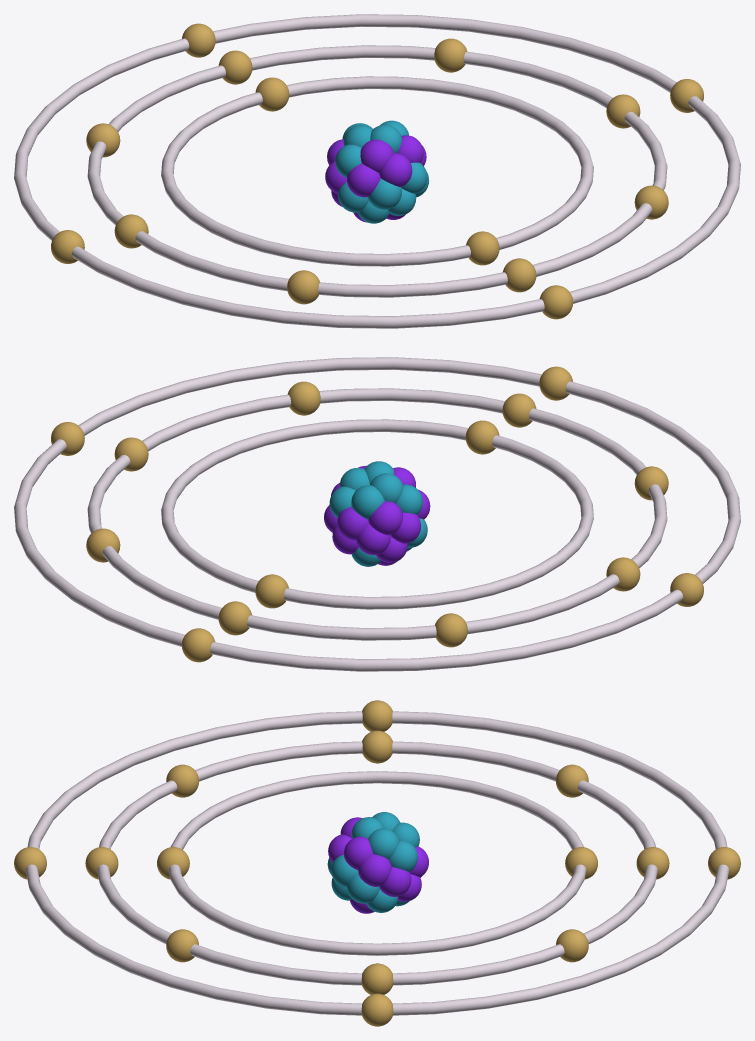
File: silicio.glb
3 renders of one model, top to bottom at view 1: azimuth 30°, elevation 25°; view 2: azimuth 150°, elevation 25°; view 3: azimuth 270°, elevation 25°, orthographic. The views are drawn at different scales.
Visible parts, largest first — view 1: Orbita_3, Orbita_2, Orbita_1, Nucleo_Completo, Eletron_C2_8, Eletron_C2_4, Eletron_C2_1, Eletron_C3_1, Eletron_1, Eletron_C2_5, Eletron_2, Eletron_C3_3 (+6 smaller); view 2: Orbita_3, Orbita_2, Orbita_1, Nucleo_Completo, Eletron_C2_6, Eletron_C2_2, Eletron_C2_5, Eletron_C3_3, Eletron_2, Eletron_C2_1, Eletron_1, Eletron_C3_1 (+6 smaller); view 3: Orbita_3, Orbita_2, Orbita_1, Nucleo_Completo, Eletron_C3_2, Eletron_C2_7, Eletron_C2_3, Eletron_C3_4, Eletron_C2_2, Eletron_C2_4, Eletron_C2_6, Eletron_C2_8 (+6 smaller).
Boxes of the visible parts, x1=… form: Orbita_3: x1=14, y1=14, x2=740, y2=328; Orbita_2: x1=87, y1=45, x2=667, y2=297; Orbita_1: x1=161, y1=76, x2=593, y2=266; Nucleo_Completo: x1=325, y1=120, x2=428, y2=223; Eletron_C2_8: x1=287, y1=270, x2=319, y2=304; Eletron_C2_4: x1=434, y1=38, x2=467, y2=72; Eletron_C2_1: x1=503, y1=258, x2=536, y2=292; Eletron_C3_1: x1=539, y1=285, x2=573, y2=319; Eletron_1: x1=466, y1=231, x2=499, y2=265; Eletron_C2_5: x1=218, y1=50, x2=252, y2=84; Eletron_2: x1=255, y1=77, x2=289, y2=111; Eletron_C3_3: x1=182, y1=23, x2=215, y2=57; Orbita_3: x1=14, y1=357, x2=740, y2=671; Orbita_2: x1=87, y1=388, x2=667, y2=640; Orbita_1: x1=161, y1=419, x2=593, y2=609; Nucleo_Completo: x1=324, y1=461, x2=430, y2=566; Eletron_C2_6: x1=435, y1=613, x2=467, y2=647; Eletron_C2_2: x1=287, y1=381, x2=320, y2=415; Eletron_C2_5: x1=218, y1=601, x2=251, y2=635; Eletron_C3_3: x1=181, y1=628, x2=215, y2=662; Eletron_2: x1=255, y1=574, x2=288, y2=608; Eletron_C2_1: x1=502, y1=393, x2=536, y2=427; Eletron_1: x1=465, y1=420, x2=499, y2=454; Eletron_C3_1: x1=539, y1=366, x2=572, y2=400; Orbita_3: x1=25, y1=711, x2=729, y2=1015; Orbita_2: x1=97, y1=741, x2=657, y2=985; Orbita_1: x1=168, y1=771, x2=586, y2=955; Nucleo_Completo: x1=327, y1=812, x2=428, y2=913; Eletron_C3_2: x1=361, y1=993, x2=393, y2=1026; Eletron_C2_7: x1=362, y1=730, x2=392, y2=763; Eletron_C2_3: x1=361, y1=963, x2=393, y2=994; Eletron_C3_4: x1=362, y1=700, x2=392, y2=731; Eletron_C2_2: x1=166, y1=929, x2=198, y2=962; Eletron_C2_4: x1=556, y1=929, x2=588, y2=962; Eletron_C2_6: x1=555, y1=764, x2=588, y2=797; Eletron_C2_8: x1=166, y1=764, x2=199, y2=797.
Size of the model in its own units: 3.56 by 0.4997 by 3.56.
